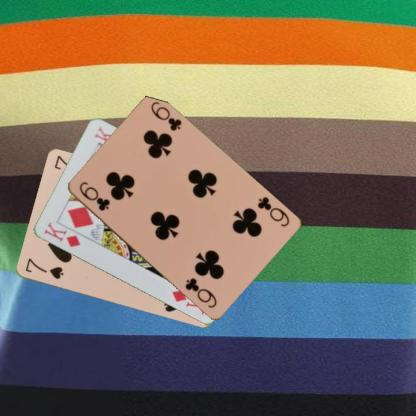6c: (254, 194, 291, 228), (76, 179, 111, 213)
7s: (22, 255, 64, 281)
Kd: (41, 219, 81, 248)
